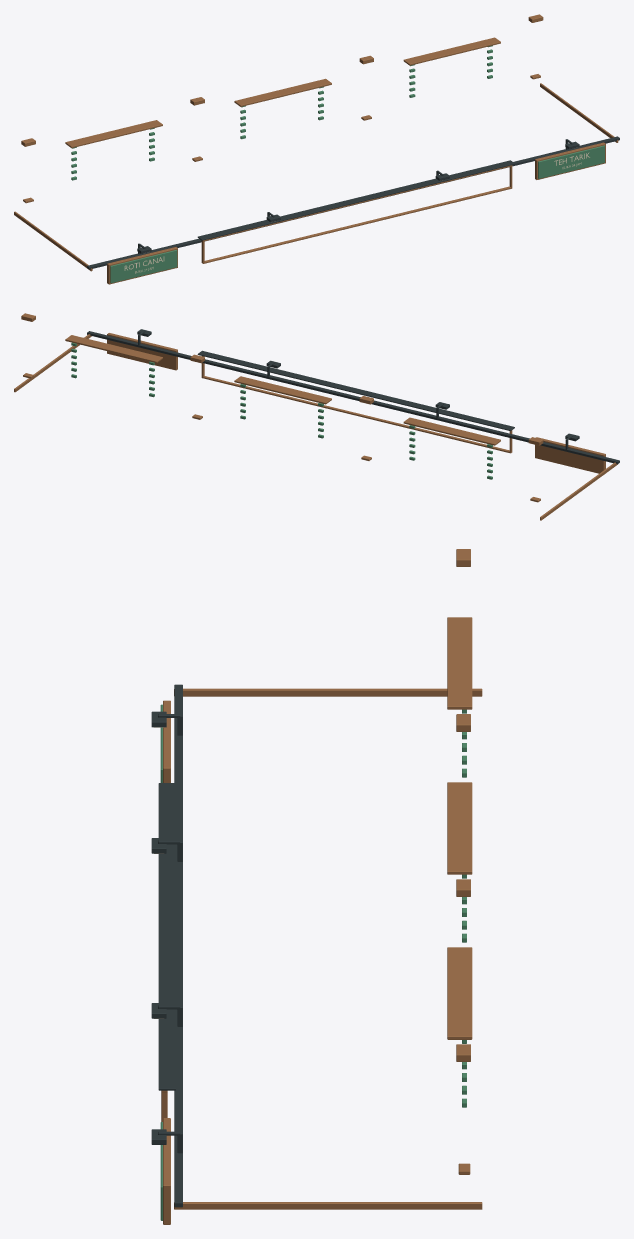
Rendered from LM_ENV_MamakFacade.glb.
3 views of the same model, one above another, from view 1: azimuth 30°, elevation 25°; view 2: azimuth 150°, elevation 25°; view 3: azimuth 270°, elevation 25° (orthographic). The views are drawn at different scales.
Visible parts, largest first — view 1: LM_ENV_MamakFacade_Wood_Warm, LM_ENV_MamakFacade_Leaf_Green, LM_ENV_MamakFacade_Metal_Dark; view 2: LM_ENV_MamakFacade_Wood_Warm, LM_ENV_MamakFacade_Metal_Dark, LM_ENV_MamakFacade_Leaf_Green; view 3: LM_ENV_MamakFacade_Wood_Warm, LM_ENV_MamakFacade_Metal_Dark, LM_ENV_MamakFacade_Leaf_Green.
Part boxes in pixels (x1=…): LM_ENV_MamakFacade_Wood_Warm: x1=14, y1=14, x2=618, y2=284; LM_ENV_MamakFacade_Leaf_Green: x1=71, y1=45, x2=604, y2=283; LM_ENV_MamakFacade_Metal_Dark: x1=87, y1=136, x2=619, y2=269; LM_ENV_MamakFacade_Wood_Warm: x1=14, y1=313, x2=617, y2=520; LM_ENV_MamakFacade_Metal_Dark: x1=87, y1=329, x2=619, y2=464; LM_ENV_MamakFacade_Leaf_Green: x1=71, y1=342, x2=492, y2=479; LM_ENV_MamakFacade_Wood_Warm: x1=161, y1=549, x2=482, y2=1224; LM_ENV_MamakFacade_Metal_Dark: x1=151, y1=684, x2=182, y2=1207; LM_ENV_MamakFacade_Leaf_Green: x1=160, y1=704, x2=466, y2=1220.
Bounding box in the file's own units: 31.4 × 5.22 × 8.47.
